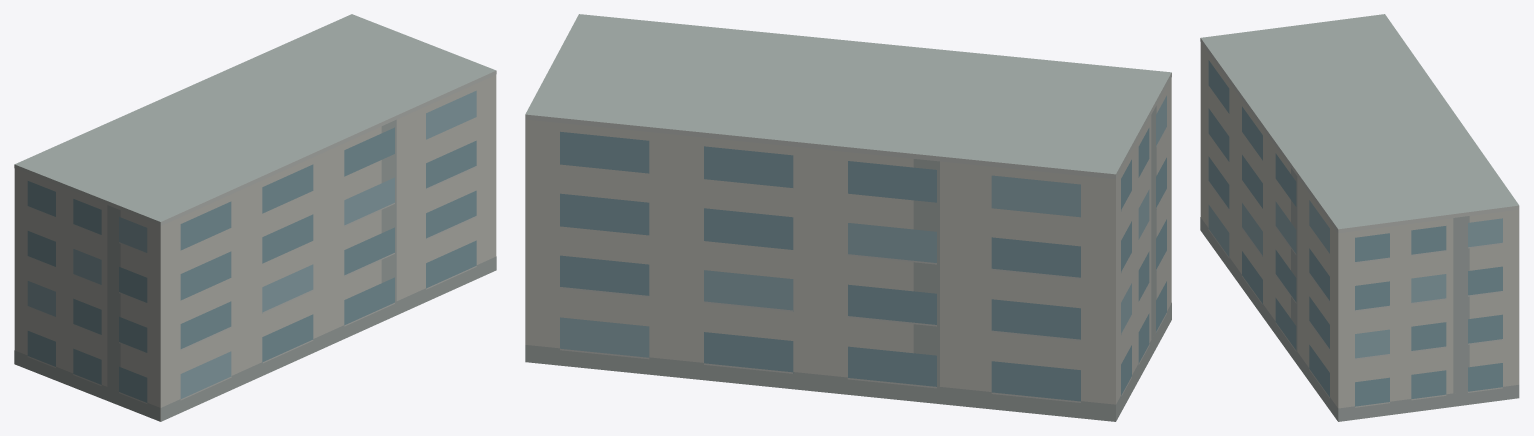
The model's file is residential-4bf3ec1a-fc02-4ee9-80d9-4bd4b4c96989.glb.
The picture shows the model from 3 angles, left to right: view 1: azimuth 30°, elevation 25°; view 2: azimuth 150°, elevation 25°; view 3: azimuth 270°, elevation 25°; orthographic projection. The views are drawn at different scales.
Visible parts, largest first — view 1: residential-4bf3ec1a-fc02-4ee9-80d9-4bd4b4c96989.tmp; view 2: residential-4bf3ec1a-fc02-4ee9-80d9-4bd4b4c96989.tmp; view 3: residential-4bf3ec1a-fc02-4ee9-80d9-4bd4b4c96989.tmp.
Boxes of the visible parts, box(x1,y1,x2,y2) form: residential-4bf3ec1a-fc02-4ee9-80d9-4bd4b4c96989.tmp: box(14, 14, 496, 421); residential-4bf3ec1a-fc02-4ee9-80d9-4bd4b4c96989.tmp: box(525, 14, 1171, 421); residential-4bf3ec1a-fc02-4ee9-80d9-4bd4b4c96989.tmp: box(1200, 14, 1519, 421).
Bounding box in the file's own units: 29.25 × 12.2 × 18.31.
